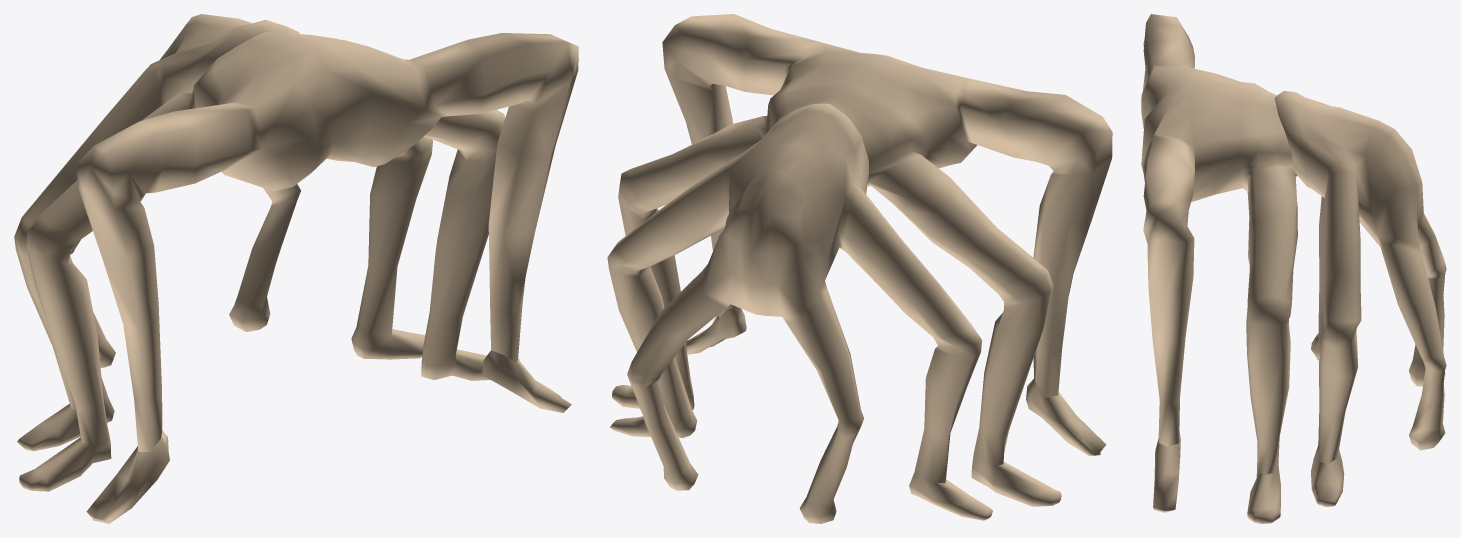
File: Quebrántula.fbx
3 renders of one model, left to right at view 1: azimuth 30°, elevation 25°; view 2: azimuth 150°, elevation 25°; view 3: azimuth 270°, elevation 25°, orthographic. The views are drawn at different scales.
Visible parts, largest first — view 1: Quebrántula; view 2: Quebrántula; view 3: Quebrántula.
Boxes of the visible parts, left/top/right/bottom form: Quebrántula: left=14, top=14, right=578, bottom=523; Quebrántula: left=607, top=14, right=1112, bottom=523; Quebrántula: left=1141, top=14, right=1446, bottom=523.
Size of the model in its own units: 265 by 209 by 169.
